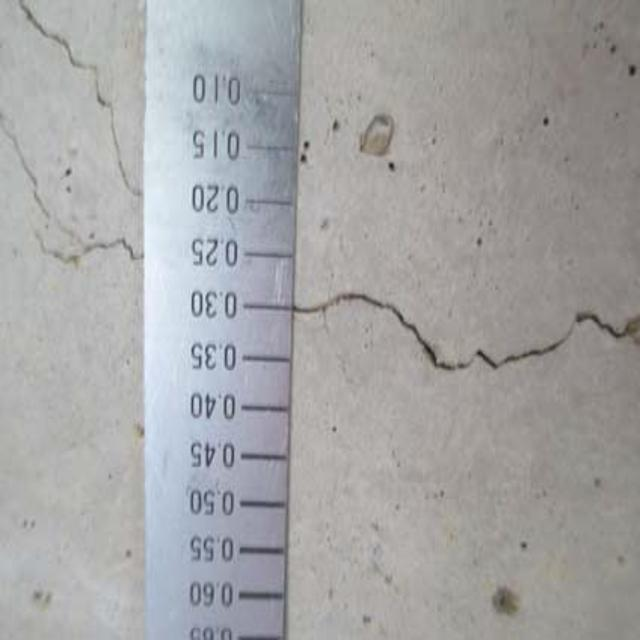crack: (11, 10, 143, 293), (303, 276, 638, 377)
